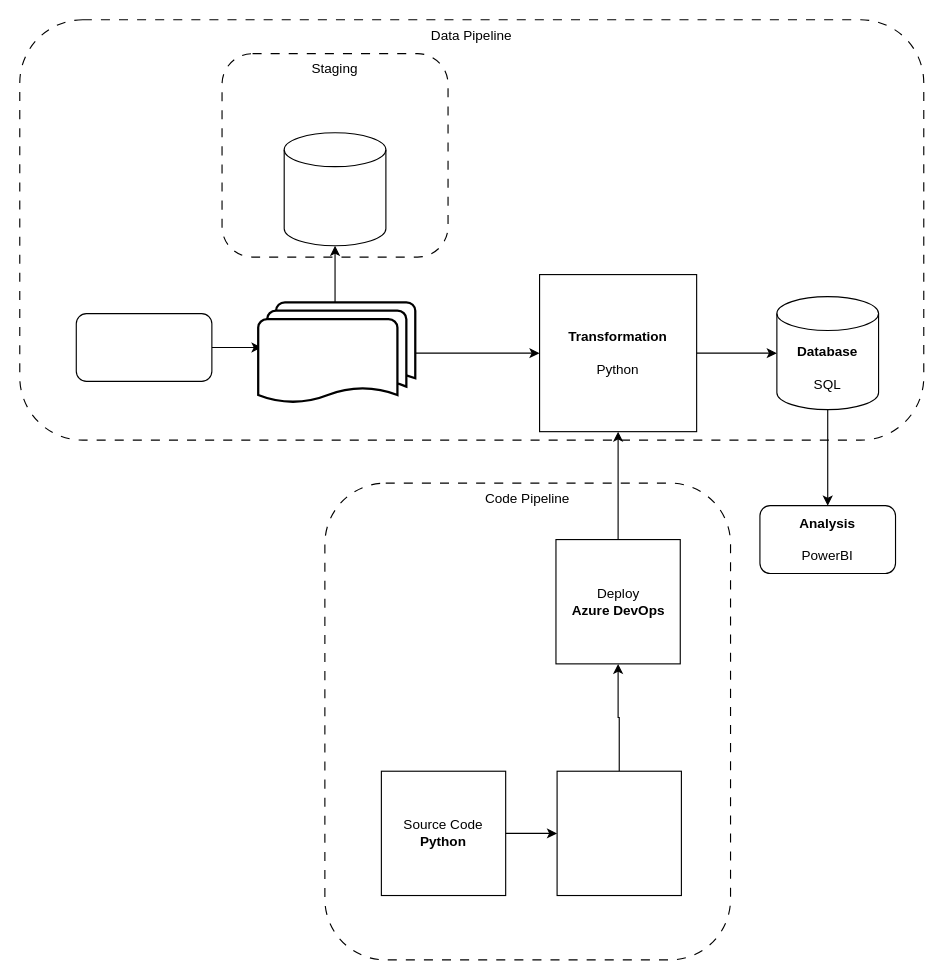
The diagram is 944 pixels wide and 980 high, and some of its shapes have lost their labels. The centre of each missing label's shape, as x and y in pixels:
"Blob storage" goes at [334,189].
"Raw data .csv files" goes at [336,353].
"Sources" goes at [143,346].
"Testing unittest" goes at [618,833].
